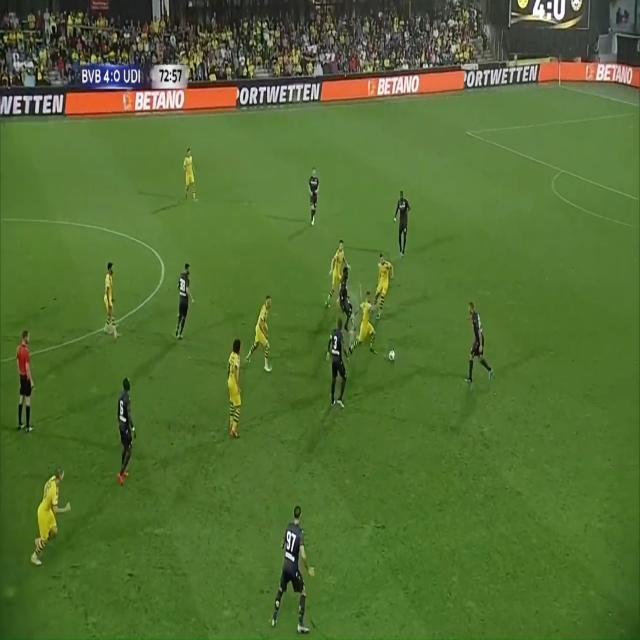ball: (388, 343, 398, 368)
player: (269, 497, 315, 637), (29, 459, 72, 573), (455, 289, 495, 389), (248, 284, 284, 383), (114, 368, 142, 490), (223, 324, 248, 443), (327, 313, 353, 414), (354, 287, 380, 368), (173, 252, 194, 345), (374, 251, 398, 332), (101, 255, 121, 344), (390, 191, 415, 258), (331, 230, 349, 308), (181, 146, 200, 201), (306, 167, 322, 230), (339, 266, 355, 328)
referee: (14, 326, 39, 434)
